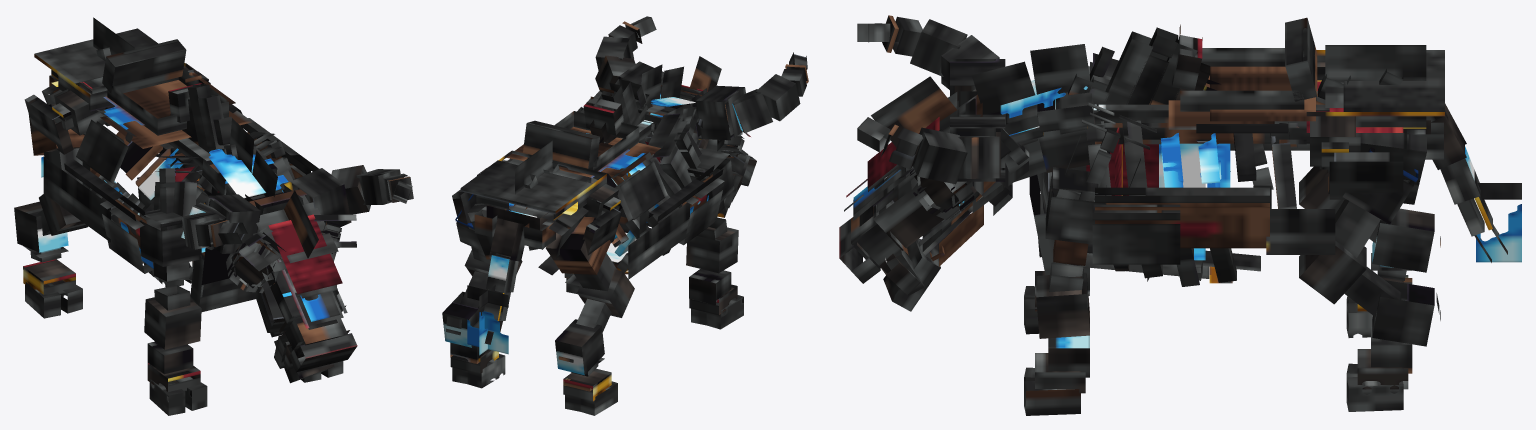
Rendered from soul_bull.obj.
3 renders of one model, left to right at view 1: azimuth 30°, elevation 25°; view 2: azimuth 150°, elevation 25°; view 3: azimuth 270°, elevation 25°, orthographic. The views are drawn at different scales.
Visible parts, largest first — view 1: armor_rump, saddle_cantle, saddle_blanket, armor_head, plate_chain_r, leg_fr_head, knee_fr, saddle_flap_r, armor_chest, horn_l_boss, saddle_seat, plate_flank_r (+52 smaller); view 2: armor_rump, saddle_cantle, plate_chain_r, horn_r_boss, hock_br, leg_br_head, saddle_flap_r, knee_fr, saddle_blanket, tail_flame, saddle_seat, knee_br (+53 smaller); view 3: armor_flank_l, armor_rump, plate_flank_l, saddle_blanket, saddle_seat, plate_rump_spikes, body, plate_hip_l, hock_br, plate_chain_l, hock_bl, leg_fl_head (+71 smaller).
Boxes of the visible parts, x1,y1,x2,y2 form: armor_rump: (34,28,193,111); saddle_cantle: (102,39,186,93); saddle_blanket: (100,72,252,148); armor_head: (268,214,342,328); plate_chain_r: (43,156,110,242); leg_fr_head: (139,209,201,266); knee_fr: (144,294,201,349); saddle_flap_r: (76,109,136,185); armor_chest: (190,248,255,311); horn_l_boss: (284,168,351,227); saddle_seat: (107,68,228,135); plate_flank_r: (100,200,153,273); armor_rump: (460,150,606,215); saddle_cantle: (523,120,599,168); plate_chain_r: (628,202,689,279); horn_r_boss: (689,85,745,140); hock_br: (555,319,604,375); leg_br_head: (545,216,610,274); saddle_flap_r: (611,152,667,221); knee_fr: (686,227,738,273); saddle_blanket: (506,127,660,178); tail_flame: (467,285,508,354); saddle_seat: (527,111,639,171); knee_br: (577,269,634,317); armor_flank_l: (1095,187,1269,248); armor_rump: (1306,50,1444,132); plate_flank_l: (1092,204,1180,264); saddle_blanket: (1168,66,1315,129); saddle_seat: (1180,48,1304,111); plate_rump_spikes: (1325,45,1426,82); body: (1092,91,1329,143); plate_hip_l: (1329,152,1403,199); hock_br: (1372,208,1434,272); plate_chain_l: (1266,209,1335,254); hock_bl: (1372,280,1434,346); leg_fl_head: (1045,167,1106,244).
Bounding box in the file's own units: 32.77 × 41.65 × 74.41.
Materials: 1 (1 with a texture image).
